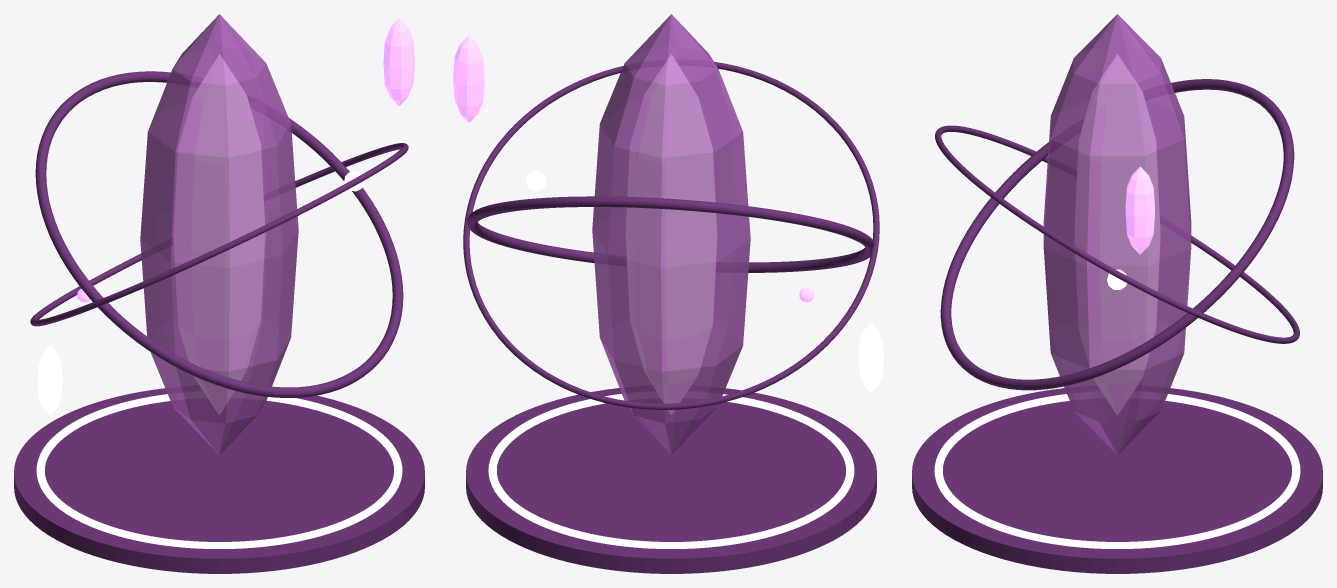
The model's file is royal-amethyst-core.glb.
3 renders of one model, left to right at view 1: azimuth 30°, elevation 25°; view 2: azimuth 150°, elevation 25°; view 3: azimuth 270°, elevation 25°, orthographic.
Parts seen in each view (by area): view 1: Crystal_Pedestal, Amethyst_Crystal, Amethyst_Core, Orbit_Ring_Outer, Pedestal_Glow_Ring, Orbit_Ring_Inner, Floating_Crystal_01, Floating_Crystal_02; view 2: Crystal_Pedestal, Amethyst_Crystal, Amethyst_Core, Orbit_Ring_Inner, Orbit_Ring_Outer, Pedestal_Glow_Ring, Floating_Crystal_01, Floating_Crystal_02; view 3: Crystal_Pedestal, Amethyst_Crystal, Amethyst_Core, Orbit_Ring_Outer, Pedestal_Glow_Ring, Orbit_Ring_Inner, Floating_Crystal_01.
Part boxes in pixels (<box>): Crystal_Pedestal: <box>14,388,424,573</box>; Amethyst_Crystal: <box>140,14,298,454</box>; Amethyst_Core: <box>174,54,264,414</box>; Orbit_Ring_Outer: <box>35,71,403,397</box>; Pedestal_Glow_Ring: <box>36,394,402,548</box>; Orbit_Ring_Inner: <box>30,143,408,326</box>; Floating_Crystal_01: <box>383,18,414,106</box>; Floating_Crystal_02: <box>37,345,62,415</box>; Crystal_Pedestal: <box>466,388,876,573</box>; Amethyst_Crystal: <box>592,14,750,454</box>; Amethyst_Core: <box>626,54,716,414</box>; Orbit_Ring_Inner: <box>463,61,879,409</box>; Orbit_Ring_Outer: <box>467,196,874,272</box>; Pedestal_Glow_Ring: <box>488,394,854,548</box>; Floating_Crystal_01: <box>453,35,484,122</box>; Floating_Crystal_02: <box>858,323,883,393</box>; Crystal_Pedestal: <box>912,388,1322,573</box>; Amethyst_Crystal: <box>1043,14,1191,454</box>; Amethyst_Core: <box>1075,54,1159,414</box>; Orbit_Ring_Outer: <box>940,79,1294,390</box>; Pedestal_Glow_Ring: <box>934,394,1300,548</box>; Orbit_Ring_Inner: <box>935,125,1299,343</box>; Floating_Crystal_01: <box>1125,166,1154,254</box>.
Size of the model in its own units: 6.05 by 6.86 by 5.4.
